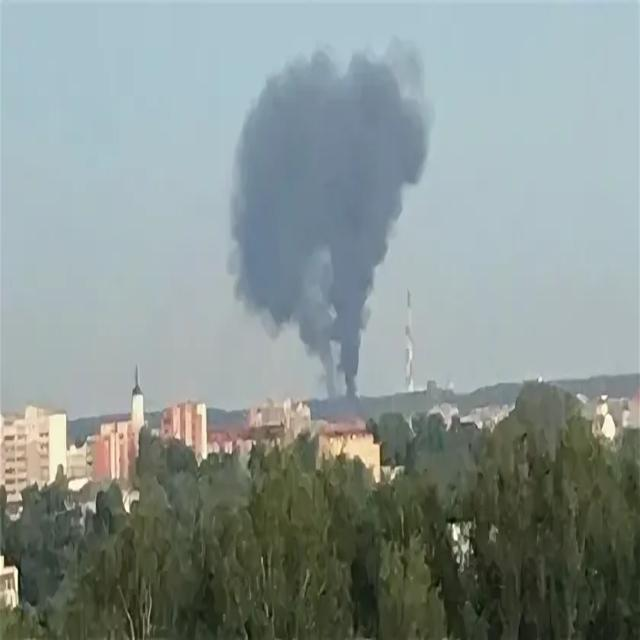Smoke: (228, 41, 423, 394)
